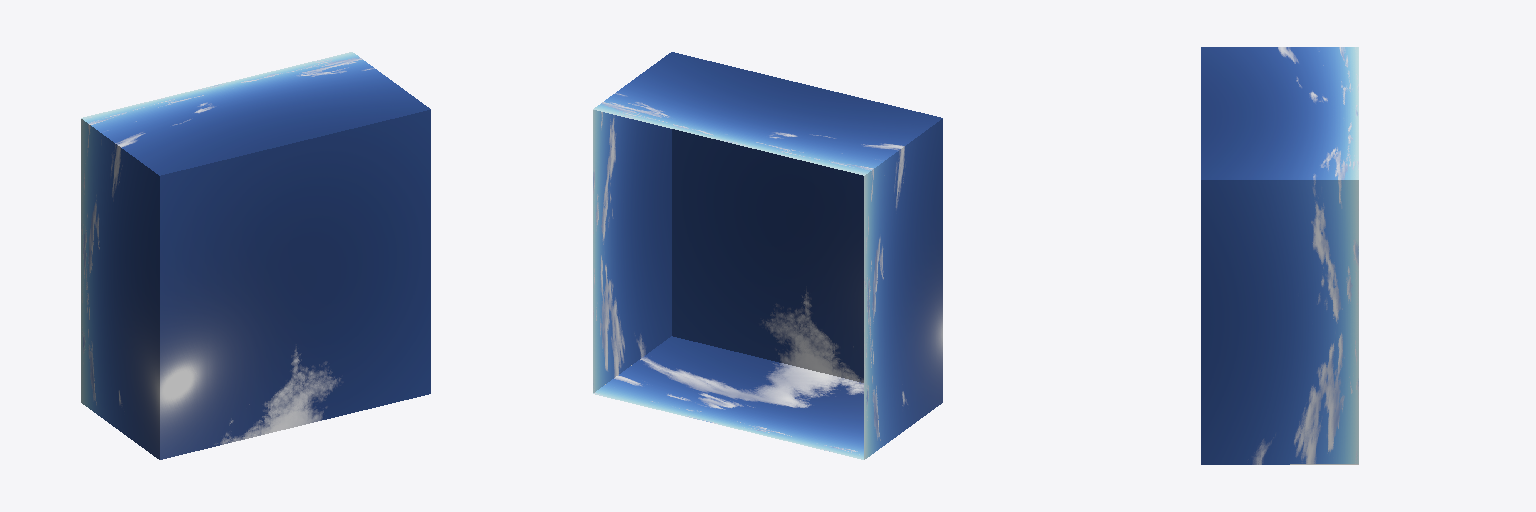
3 views of the same model, side by side, from view 1: azimuth 30°, elevation 25°; view 2: azimuth 150°, elevation 25°; view 3: azimuth 270°, elevation 25° (orthographic).
Size of the model in its own units: 40.09 by 40.09 by 20.17.
1 materials, 1 textured.